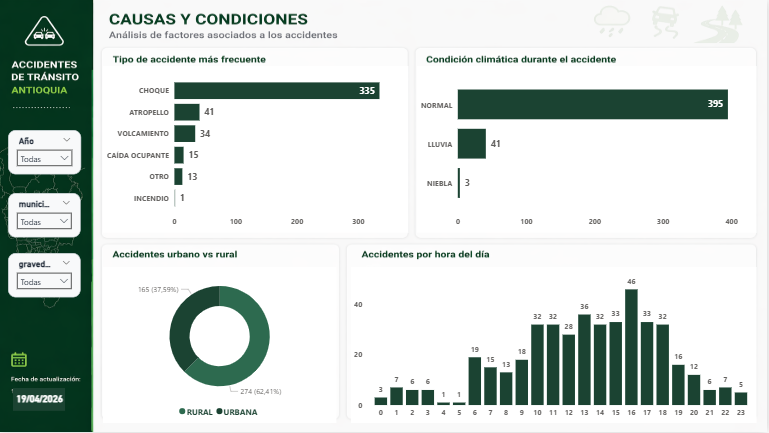

The dashboard page shown, as its layout file describes it:
{"tool":"powerbi","page":{"name":"Página 4","canvas":[1280,720],"ordinal":3},"visuals":[{"type":"slicer","fields":{"Values":["Consulta1.gravedad"]},"box":[14.4,422.2,121.1,74.4],"z":0,"group":"g2"},{"type":"shape","box":[23.5,646.5,86.7,38.2],"z":0},{"type":"group","id":"g1","title":"Grupo 1","box":[14.4,217,122.6,179.7],"z":1000,"group":"g2"},{"type":"card","fields":{"Values":["Consulta1.Hoy"]},"box":[17.6,639.2,98.4,51.4],"z":1000},{"type":"barChart","fields":{"Category":["Consulta1.clase_accidente"],"Y":["Consulta1.Total Accidentes"]},"box":[173.6,110.6,508.6,278.1],"z":2000},{"type":"barChart","fields":{"Category":["Consulta1.estado_clima"],"Y":["Consulta1.Total Accidentes"]},"box":[696.5,110.2,565.7,277.7],"z":3000},{"type":"donutChart","fields":{"Category":["Consulta1.area_accidente"],"Y":["Consulta1.Total Accidentes"]},"box":[173.6,445.6,388.8,259.7],"z":4000},{"type":"columnChart","fields":{"Category":["Consulta1.Hora"],"Y":["Consulta1.Total Accidentes"]},"box":[586.3,445.2,675.9,260.1],"z":5000},{"type":"group","id":"g2","title":"Grupo 2","box":[14.4,217,122.6,279.7],"z":5001},{"type":"slicer","fields":{"Values":["Consulta1.fecha_accidente.Variación.Jerarquía de fechas.Año"]},"box":[15,217,122,74],"z":8000,"group":"g1"},{"type":"slicer","fields":{"Values":["Consulta1.municipio"]},"box":[14.4,322.2,121.1,74.4],"z":9000,"group":"g1"}]}

Visuals, with their boxes in screenshot pixels (x1, y1, x2, y2), scaled from the page's 1280x720 canvas onto the 769x433 screenshot:
slicer - Consulta1.gravedad: <bbox>9, 254, 81, 299</bbox>
shape: <bbox>14, 389, 66, 412</bbox>
"Grupo 1" group: <bbox>9, 131, 82, 239</bbox>
card - Consulta1.Hoy: <bbox>11, 384, 70, 415</bbox>
barChart - Consulta1.clase_accidente x Consulta1.Total Accidentes: <bbox>104, 67, 410, 234</bbox>
barChart - Consulta1.estado_clima x Consulta1.Total Accidentes: <bbox>418, 66, 758, 233</bbox>
donutChart - Consulta1.area_accidente x Consulta1.Total Accidentes: <bbox>104, 268, 338, 424</bbox>
columnChart - Consulta1.Hora x Consulta1.Total Accidentes: <bbox>352, 268, 758, 424</bbox>
"Grupo 2" group: <bbox>9, 131, 82, 299</bbox>
slicer - Consulta1.fecha_accidente.Variación.Jerarquía de fechas.Año: <bbox>9, 131, 82, 175</bbox>
slicer - Consulta1.municipio: <bbox>9, 194, 81, 239</bbox>
